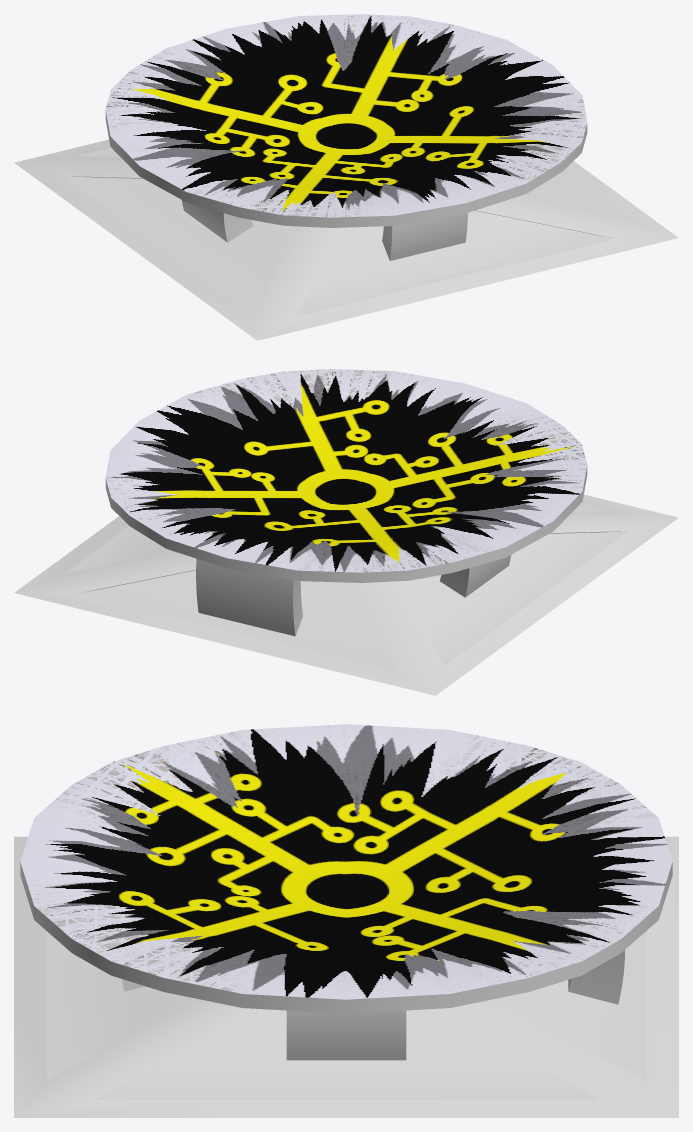
The model's file is recieveryellow.fbx.
3 views of the same model, one above another, from view 1: azimuth 30°, elevation 25°; view 2: azimuth 150°, elevation 25°; view 3: azimuth 270°, elevation 25° (orthographic). The views are drawn at different scales.
Parts seen in each view (by area): view 1: Cube.001, Cube.003, Cube, Cube.002; view 2: Cube.001, Cube.003, Cube, Cube.002; view 3: Cube.001, Cube.003, Cube, Cube.002.
Part boxes in pixels (x1,y1,x2,y2): Cube.001: [105, 14, 587, 217]; Cube.003: [64, 148, 628, 316]; Cube: [14, 139, 678, 340]; Cube.002: [105, 111, 587, 227]; Cube.001: [105, 369, 587, 572]; Cube.003: [64, 503, 628, 671]; Cube: [14, 494, 678, 695]; Cube.002: [105, 466, 587, 582]; Cube.001: [20, 724, 672, 999]; Cube.003: [47, 931, 645, 1099]; Cube: [14, 836, 678, 1117]; Cube.002: [20, 862, 672, 1013].
Size of the model in its own units: 200 by 38.29 by 200.
4 materials, 1 textured.
